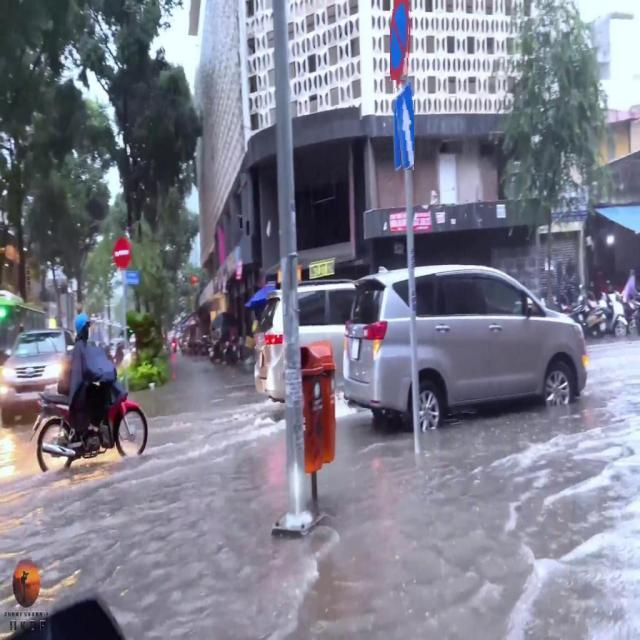102-cam-di-nguoc-chieu: (111, 236, 133, 268)
131a-cam-do-xe: (383, 1, 409, 77)
407a-duong-mot-chieu: (394, 81, 414, 170)
